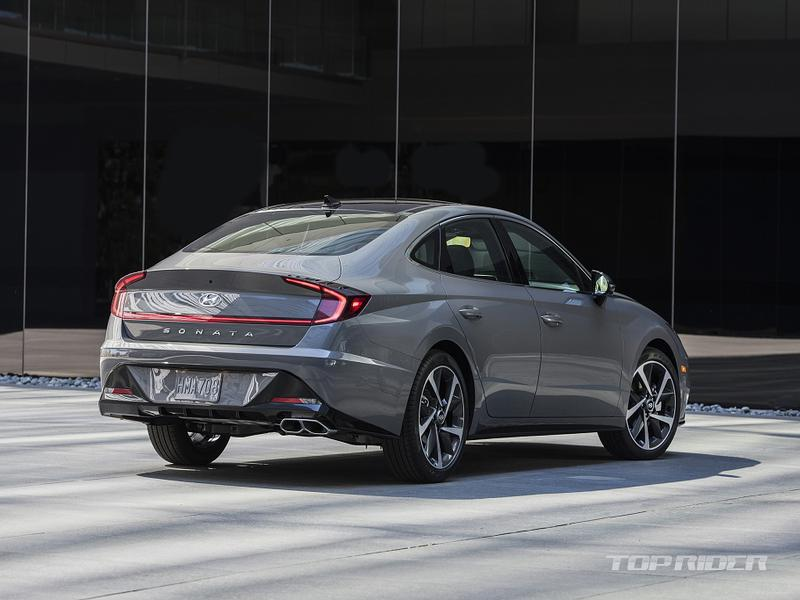car: (98, 196, 692, 457)
